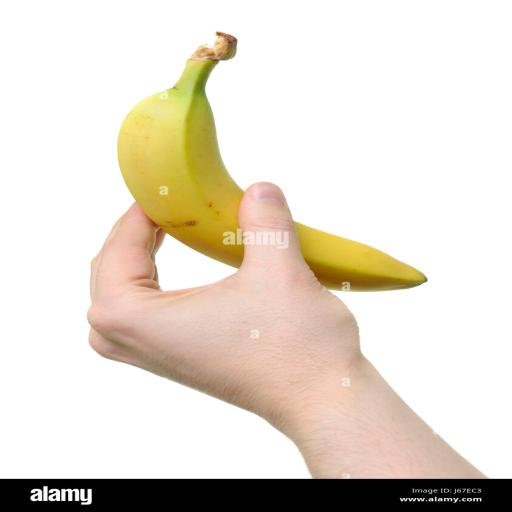banana: (119, 33, 243, 267)
